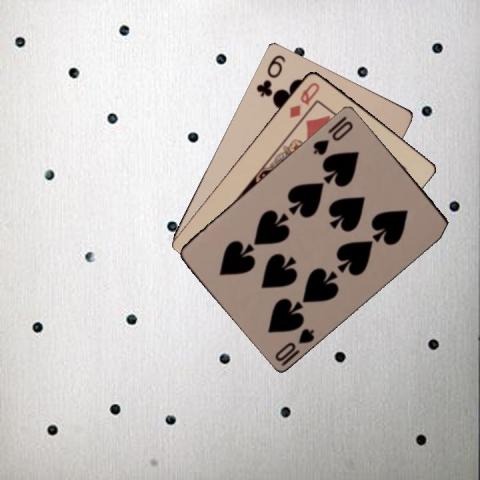10s: (310, 117, 355, 157), (272, 324, 316, 362)
6c: (253, 51, 287, 98)
Qd: (286, 79, 321, 119)
